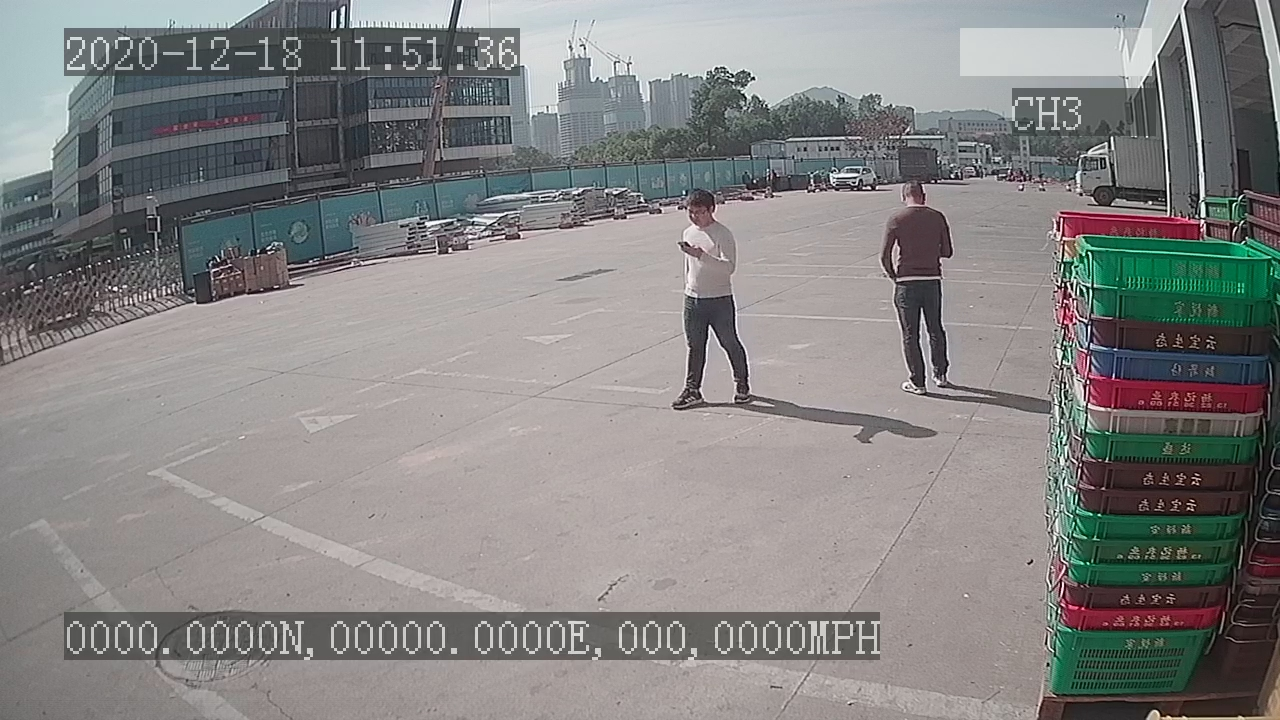person: (665, 185, 761, 417), (874, 172, 963, 403)
